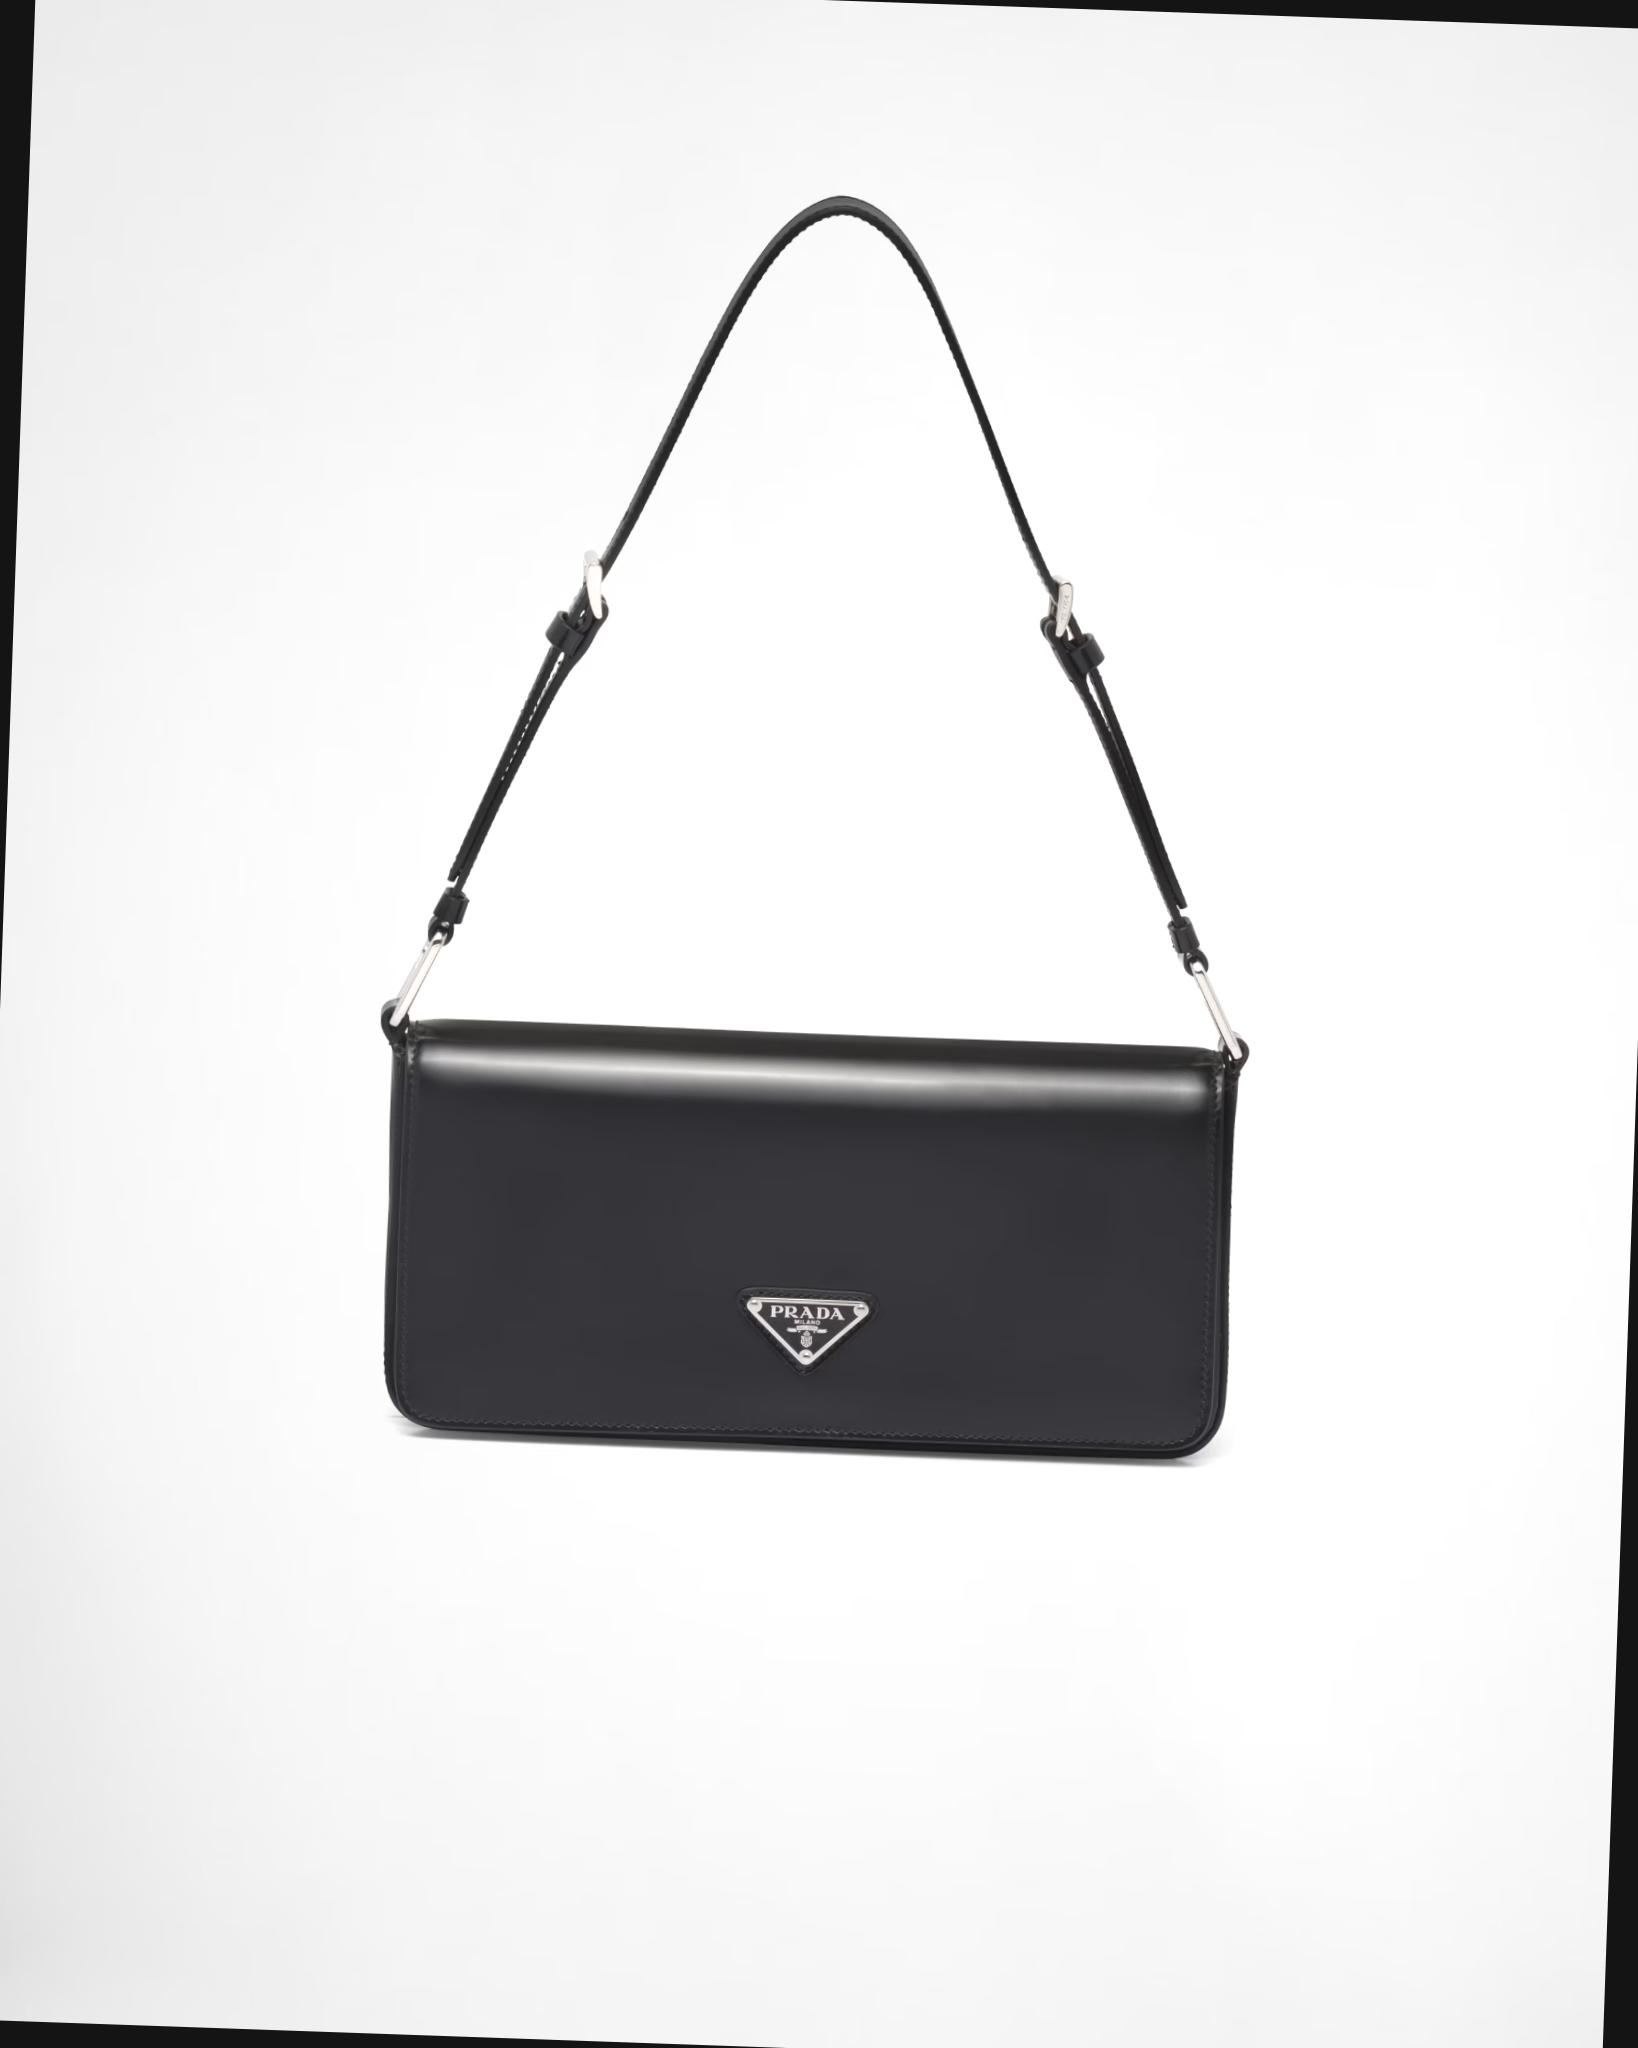PRADA: (744, 1296, 869, 1368)
